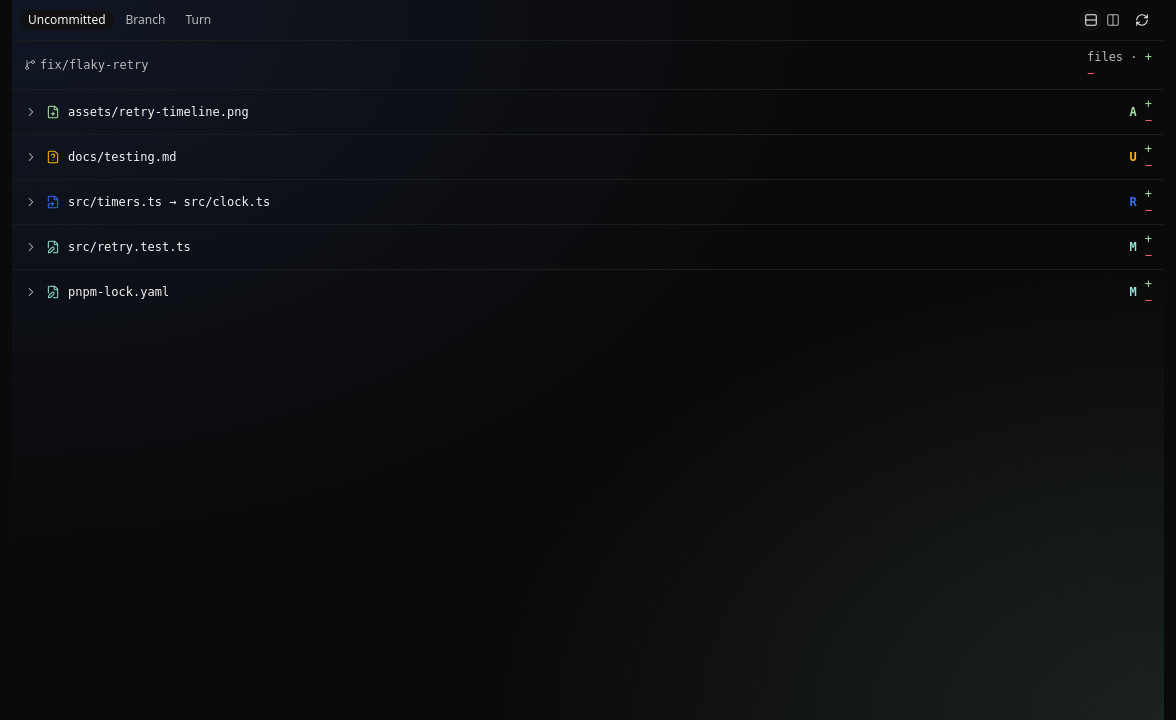
Test: DiffPanel › switches to the branch scope and shows the base
The width and height of the screenshot is (1176, 720).
What coordinates should you click on to do the following:
click the radio button labelled "Branch"
I would click on:
 (146, 20)
Its box is x1=118 y1=10 x2=173 y2=30.
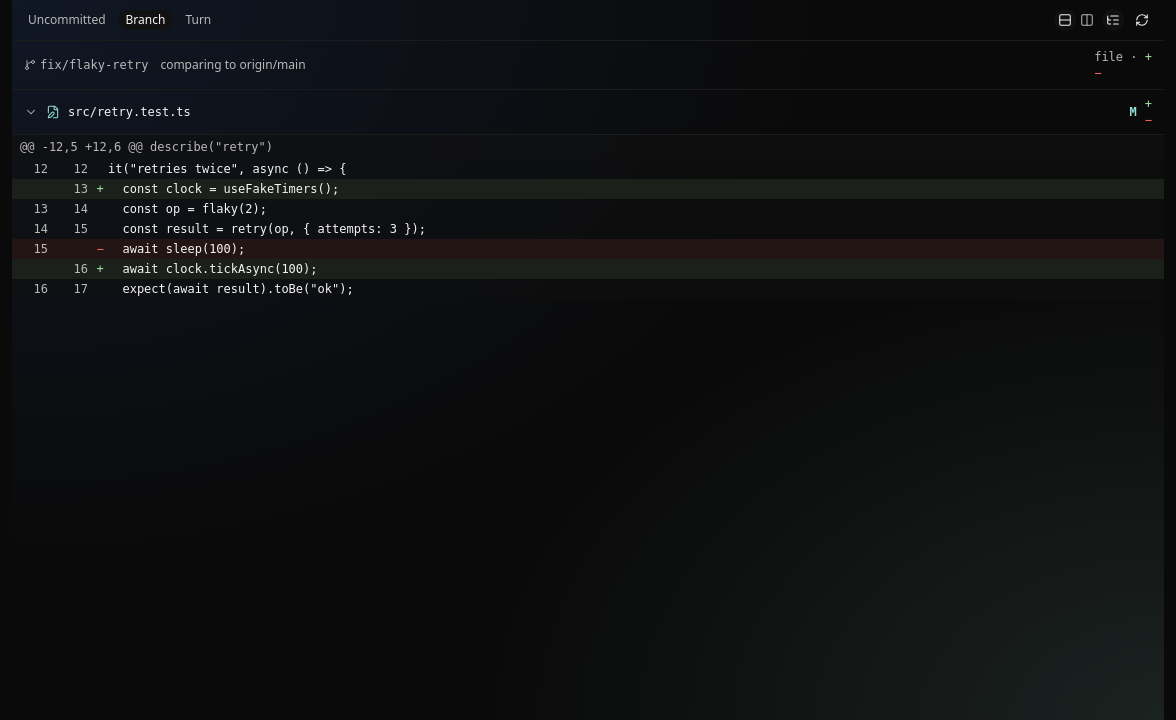
Result: the text "comparing to origin/main" is shown at x1=160 y1=57 x2=306 y2=73
